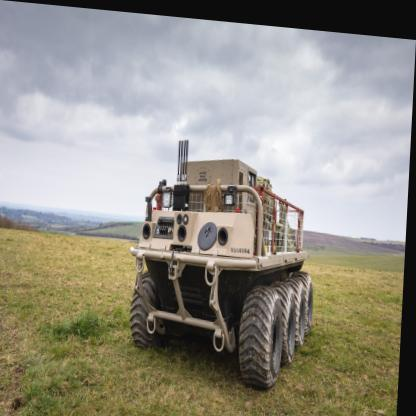UGV: (128, 129, 323, 391)
